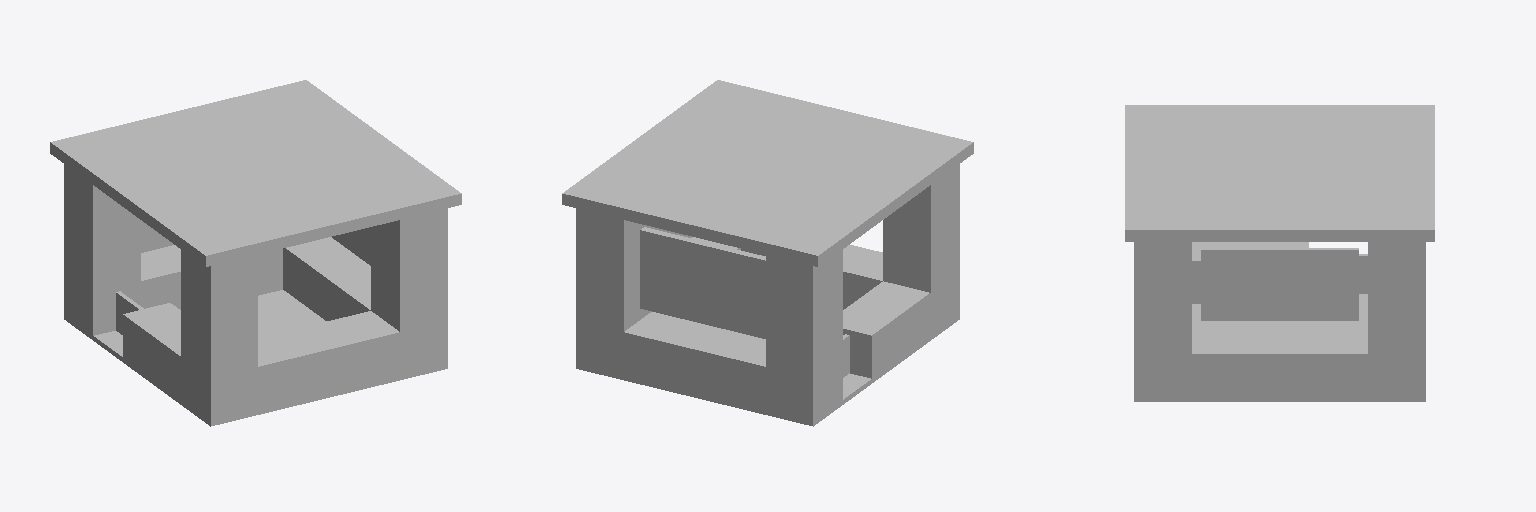
Rendered from shop.obj.
3 views of the same model, side by side, from view 1: azimuth 30°, elevation 25°; view 2: azimuth 150°, elevation 25°; view 3: azimuth 270°, elevation 25° (orthographic).
Visible parts, largest first — view 1: pCube1, pCube2, pCube5, pCube4; view 2: pCube1, pCube2, pCube4; view 3: pCube2, pCube1, pCube5.
Boxes of the visible parts, box(x1,y1,x2,y2) form: pCube1: box(64, 164, 447, 426); pCube2: box(50, 80, 461, 266); pCube5: box(332, 227, 370, 265); pCube4: box(141, 220, 173, 252); pCube1: box(576, 164, 959, 426); pCube2: box(562, 80, 973, 266); pCube4: box(640, 227, 765, 338); pCube2: box(1125, 105, 1434, 241); pCube1: box(1134, 242, 1425, 401); pCube5: box(1201, 248, 1358, 320).
Bounding box in the file's own units: 2.85 × 1.88 × 3.